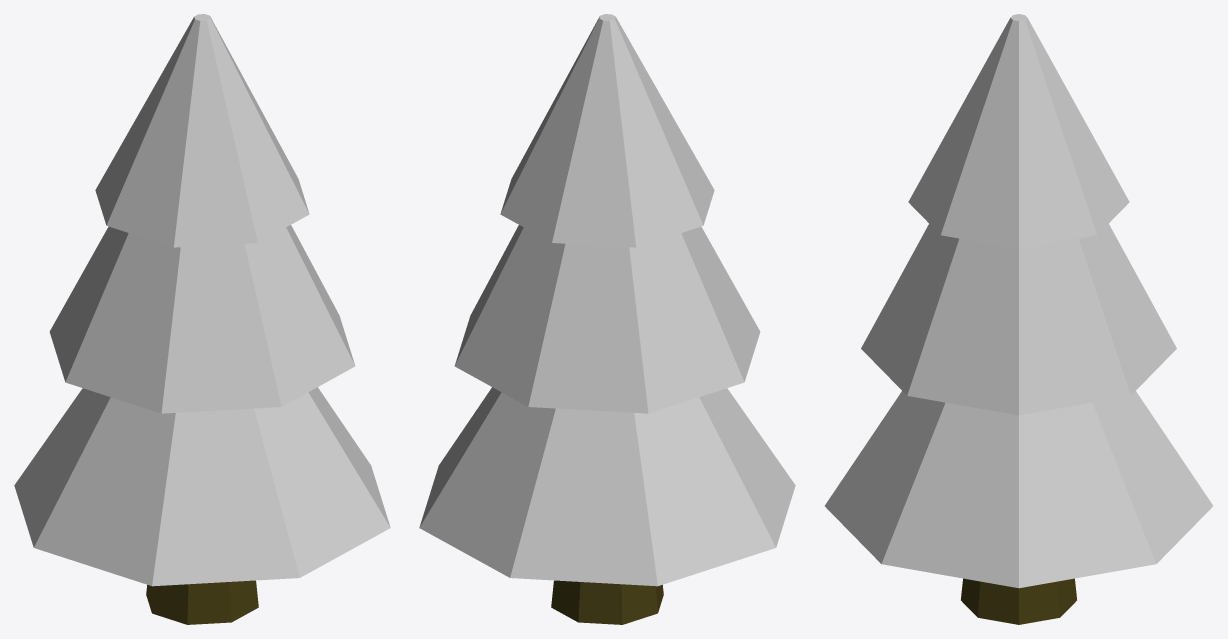
The model's file is pinetree_snow.fbx.
The picture shows the model from 3 angles, left to right: view 1: azimuth 30°, elevation 25°; view 2: azimuth 150°, elevation 25°; view 3: azimuth 270°, elevation 25°; orthographic projection.
Visible parts, largest first — view 1: Cylinder; view 2: Cylinder; view 3: Cylinder.
Part boxes in pixels (x1=…): Cylinder: x1=14, y1=14, x2=390, y2=624; Cylinder: x1=419, y1=14, x2=795, y2=624; Cylinder: x1=825, y1=14, x2=1212, y2=624.
Size of the model in its own units: 296 by 490 by 296.
